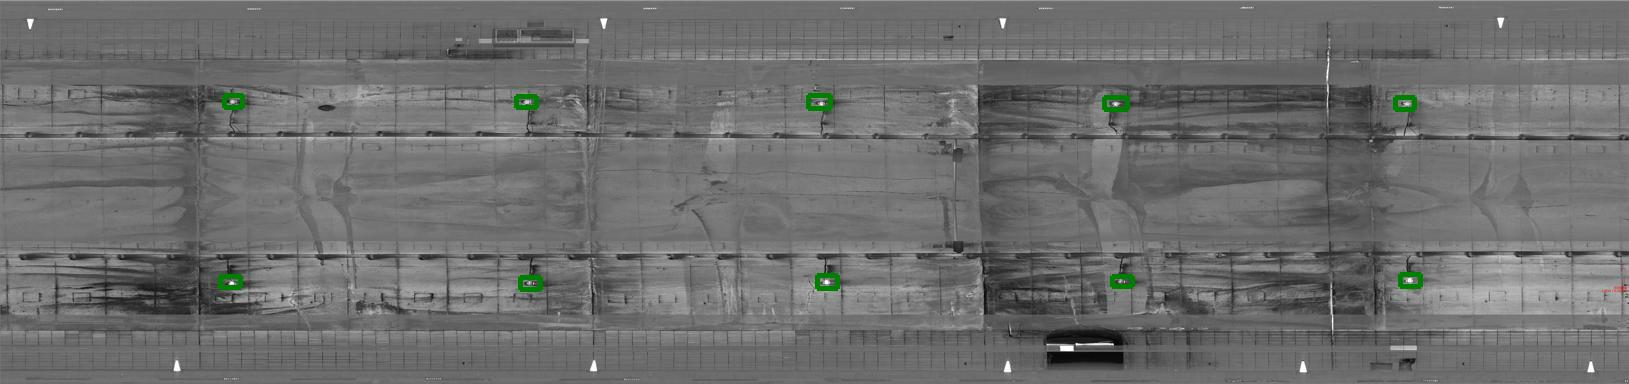light: (220, 276, 242, 290), (1110, 275, 1129, 289), (520, 276, 540, 290), (812, 95, 830, 110), (1399, 275, 1419, 286), (817, 277, 835, 289), (1105, 98, 1122, 110), (1399, 98, 1416, 109), (517, 95, 534, 107), (225, 95, 240, 108)
